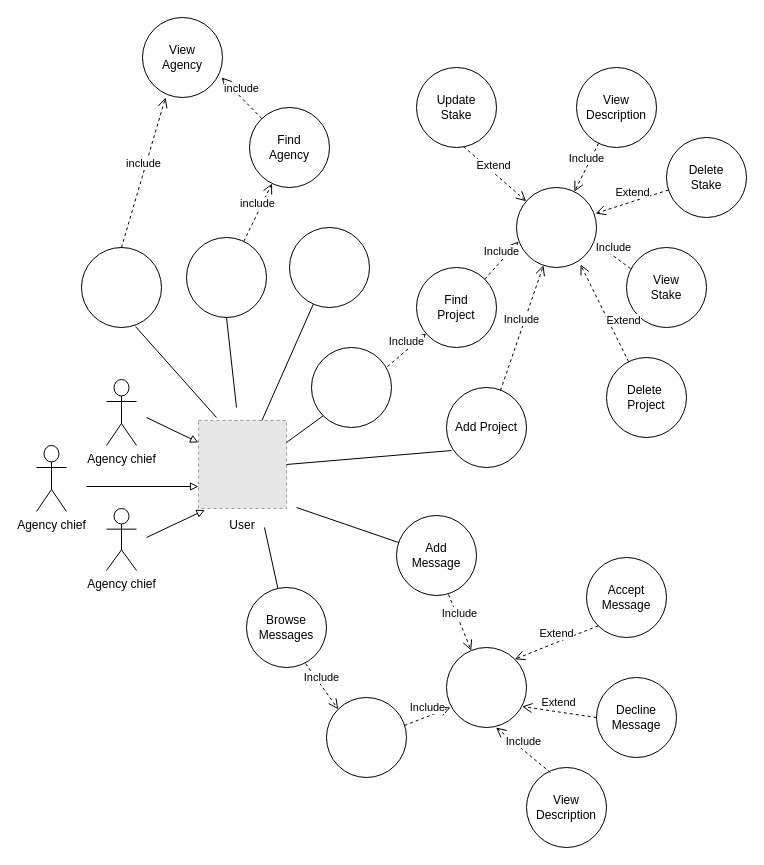
Some shapes in this 764 by 865 pixel diagram are drawn without their labels. Grey dashed boxes stand in for pictures. Here are the shapes that lost their labels. From the top down, the centre of each, then its label:
the point at 556,227: View Project
the point at 121,287: Registration
the point at 226,277: Browse Agencies
the point at 329,267: Login
the point at 351,387: Browse Projects
the point at 486,687: View Message
the point at 366,737: Find Message
